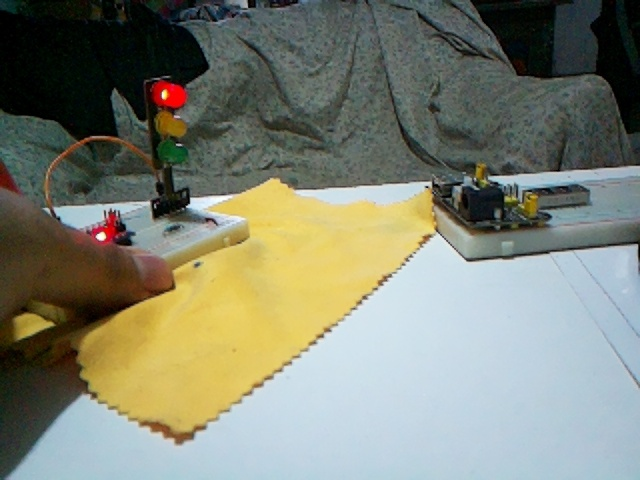traffic_light_red: (143, 76, 190, 215)
